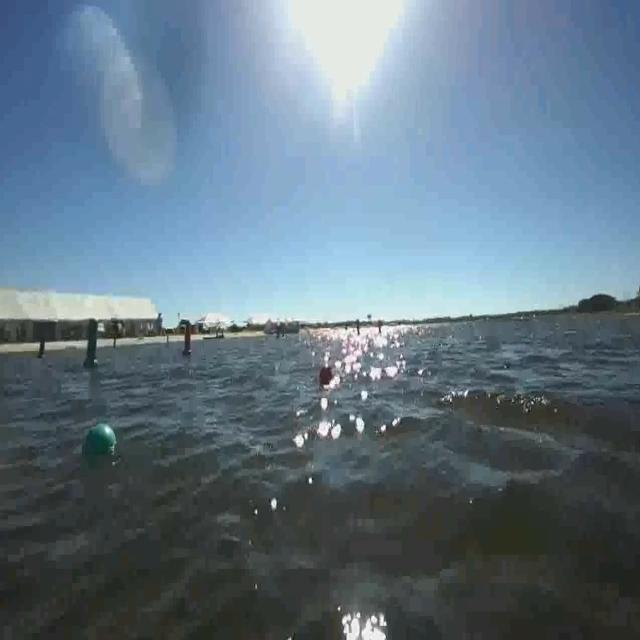green-buoy: (84, 424, 120, 459)
green-column-buoy: (83, 319, 102, 372), (37, 335, 47, 361)
red-buoy: (317, 360, 335, 386)
red-column-buoy: (182, 324, 194, 358)
